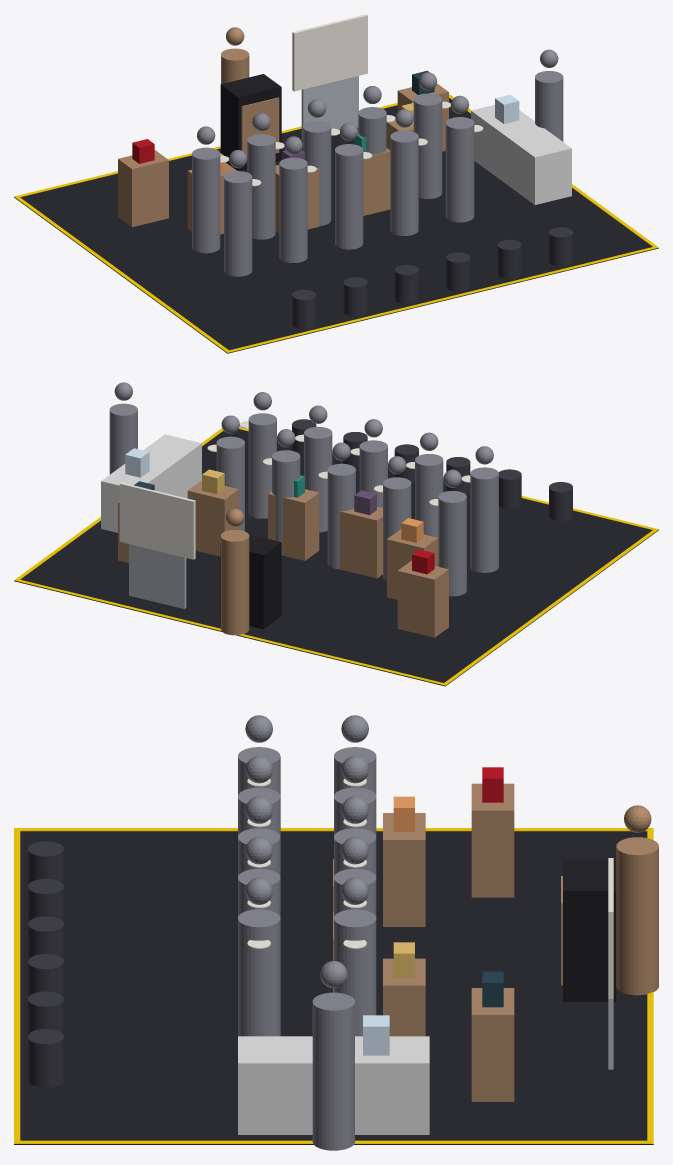
File: G04_HARAJ.obj
3 views of the same model, one above another, from view 1: azimuth 30°, elevation 25°; view 2: azimuth 150°, elevation 25°; view 3: azimuth 270°, elevation 25° (orthographic). The views are drawn at different scales.
Visible parts, largest first — view 1: floor_area, bank_table, price_board, souq_stall_crate_0, trader_9_body, trader_5_body, trader_8_body, trader_0_body, trader_6_body, trader_7_body, auctioneer_podium, trader_4_body (+21 smaller); view 2: floor_area, price_board, bank_table, souq_stall_crate_0, price_board_easel, trader_5_body, auctioneer_body, auctioneer_podium, souq_stall_crate_3, souq_stall_crate_2, trader_0_body, trader_9_body (+23 smaller); view 3: floor_area, bank_table, auctioneer_podium, banker_body, auctioneer_body, trader_9_body, souq_stall_crate_0, souq_stall_crate_5, souq_stall_crate_1, trader_4_body, souq_stall_crate_4, safety_border_e (+23 smaller).
Boxes of the visible parts, bbox=[...] form: floor_area: bbox=[14, 98, 658, 353]; bank_table: bbox=[471, 104, 571, 204]; price_board: bbox=[292, 14, 367, 91]; souq_stall_crate_0: bbox=[118, 150, 168, 227]; trader_9_body: bbox=[445, 117, 474, 222]; trader_5_body: bbox=[224, 171, 252, 276]; trader_8_body: bbox=[390, 130, 418, 235]; trader_0_body: bbox=[192, 147, 220, 253]; trader_6_body: bbox=[279, 157, 307, 262]; trader_7_body: bbox=[335, 144, 363, 249]; auctioneer_podium: bbox=[220, 74, 281, 170]; trader_4_body: bbox=[413, 93, 442, 198]; floor_area: bbox=[14, 429, 658, 686]; price_board: bbox=[119, 482, 195, 559]; bank_table: bbox=[101, 434, 201, 532]; souq_stall_crate_0: bbox=[397, 560, 448, 637]; price_board_easel: bbox=[129, 544, 186, 608]; trader_5_body: bbox=[470, 467, 498, 572]; auctioneer_body: bbox=[221, 529, 249, 635]; auctioneer_podium: bbox=[220, 534, 281, 629]; souq_stall_crate_3: bbox=[268, 489, 319, 560]; souq_stall_crate_2: bbox=[340, 506, 382, 578]; trader_0_body: bbox=[438, 491, 466, 596]; trader_9_body: bbox=[248, 413, 276, 518]; floor_area: bbox=[14, 831, 653, 1144]; bank_table: bbox=[238, 1036, 429, 1134]; auctioneer_podium: bbox=[563, 859, 616, 1001]; banker_body: bbox=[312, 992, 354, 1150]; auctioneer_body: bbox=[616, 837, 658, 995]; trader_9_body: bbox=[238, 909, 280, 1036]; souq_stall_crate_0: bbox=[471, 783, 514, 897]; souq_stall_crate_5: bbox=[471, 988, 514, 1101]; souq_stall_crate_1: bbox=[383, 813, 425, 926]; trader_4_body: bbox=[334, 909, 376, 1036]; souq_stall_crate_4: bbox=[383, 958, 425, 1036]; safety_border_e: bbox=[14, 1140, 651, 1143].
Size of the model in its own units: 7.15 by 1.87 by 6.05.
